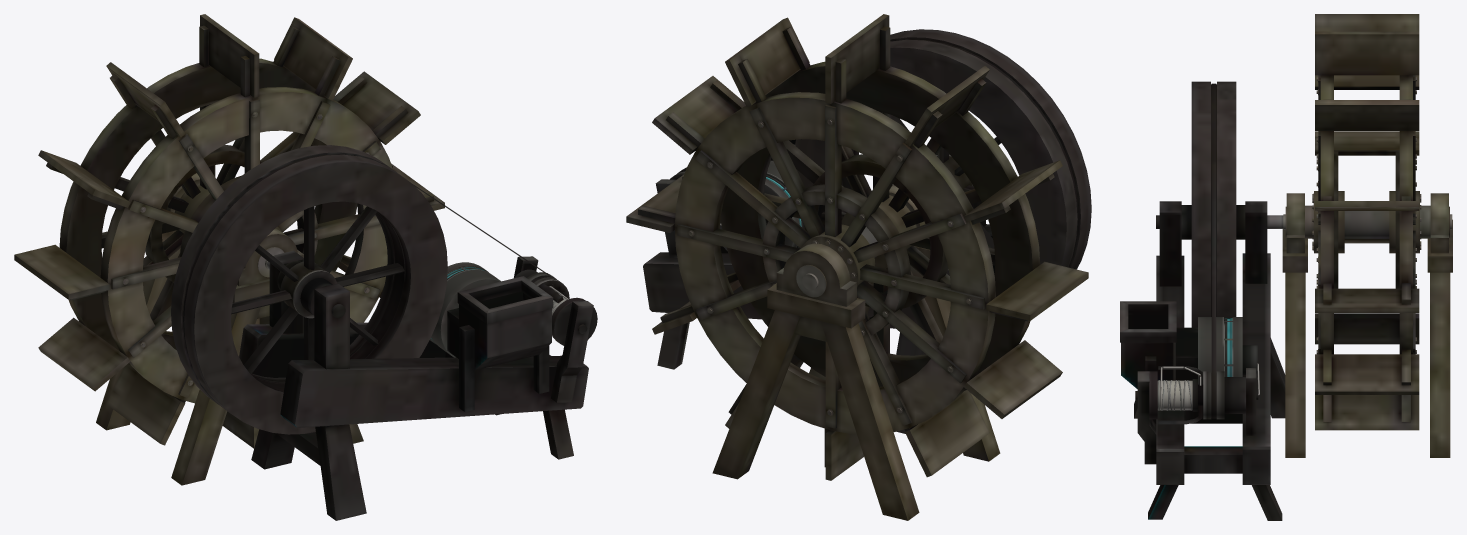
Rendered from SK_SpinningWheel_da296c.glb.
3 renders of one model, left to right at view 1: azimuth 30°, elevation 25°; view 2: azimuth 150°, elevation 25°; view 3: azimuth 270°, elevation 25°, orthographic. The views are drawn at different scales.
Bounding box in the file's own units: 2.75 × 2.36 × 1.86.
Materials: 1 (1 with a texture image).
